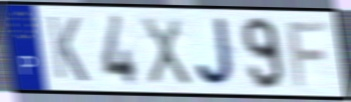4: (101, 12, 138, 87)
9: (238, 14, 287, 92)
F: (285, 19, 331, 89)
J: (193, 16, 240, 89)
K: (45, 13, 91, 84)
X: (138, 14, 194, 88)
